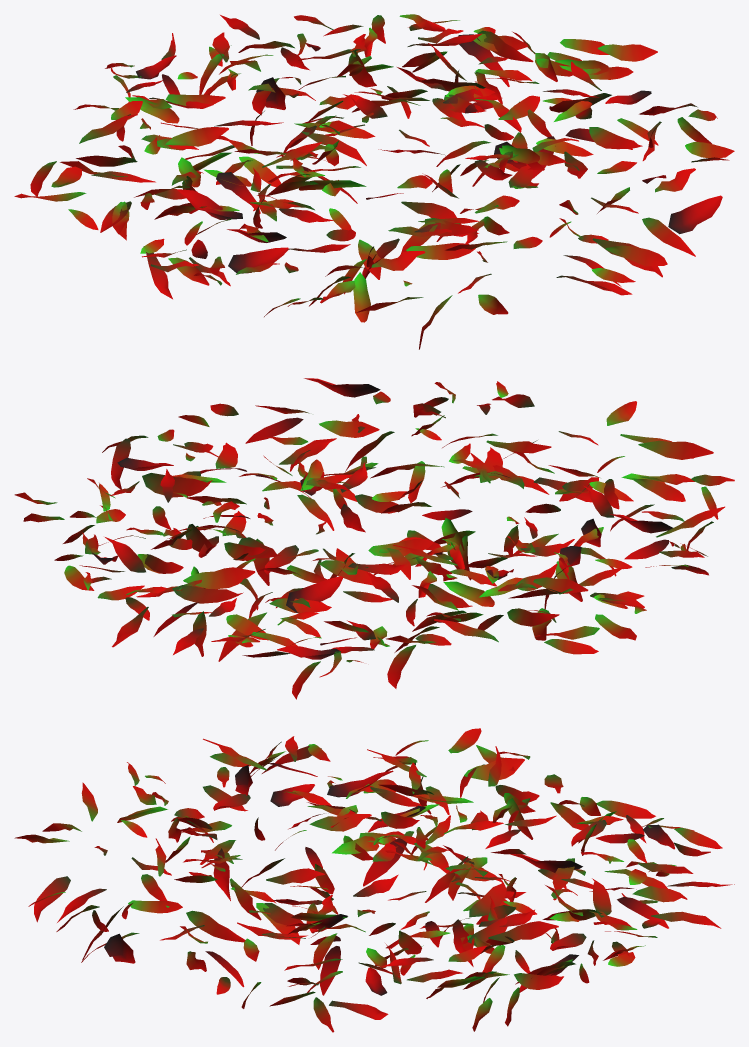
The model's file is Var1_LOD0.fbx.
3 renders of one model, top to bottom at view 1: azimuth 30°, elevation 25°; view 2: azimuth 150°, elevation 25°; view 3: azimuth 270°, elevation 25°, orthographic. The views are drawn at different scales.
Parts seen in each view (by area): view 1: _5461_Var1_LOD0; view 2: _5461_Var1_LOD0; view 3: _5461_Var1_LOD0.
Part boxes in pixels (x1,y1,x2,y2): _5461_Var1_LOD0: [14, 14, 734, 349]; _5461_Var1_LOD0: [14, 378, 734, 699]; _5461_Var1_LOD0: [14, 728, 734, 1032].
Size of the model in its own units: 114 by 8.33 by 118.
